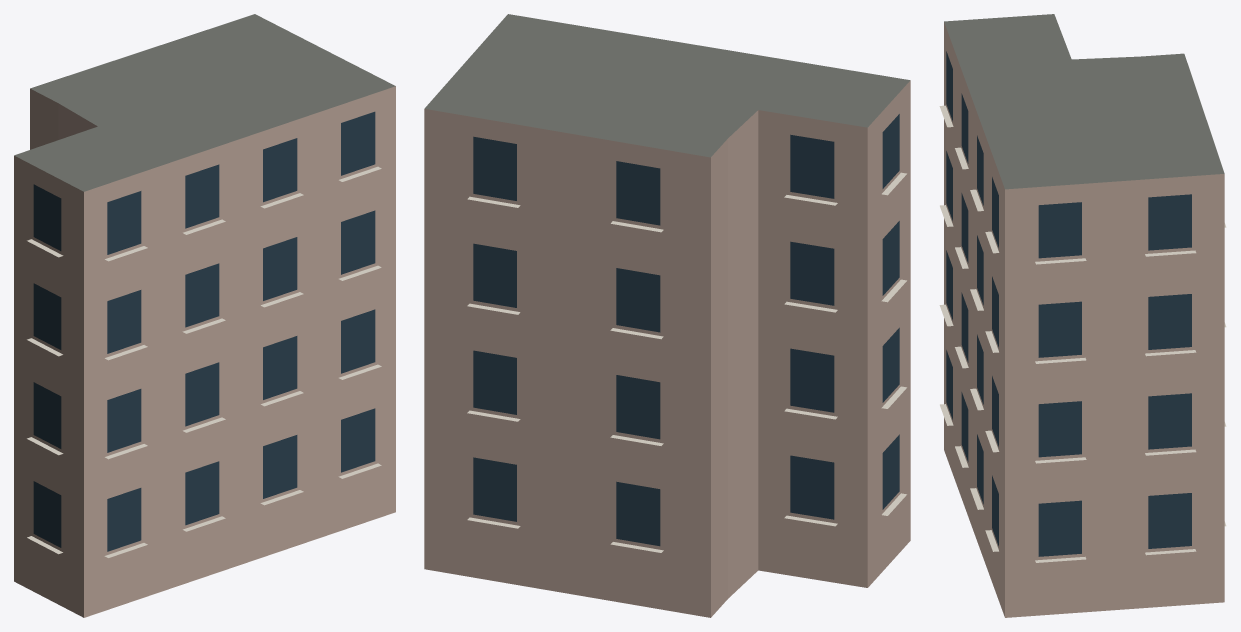
3 views of the same model, side by side, from view 1: azimuth 30°, elevation 25°; view 2: azimuth 150°, elevation 25°; view 3: azimuth 270°, elevation 25° (orthographic). The views are drawn at different scales.
Parts seen in each view (by area): view 1: Footprint 0, Inferred window bays, Window sills; view 2: Footprint 0, Inferred window bays, Window sills; view 3: Footprint 0, Inferred window bays, Window sills.
Part boxes in pixels (x1=…): Footprint 0: x1=14, y1=14, x2=395, y2=617; Inferred window bays: x1=33, y1=111, x2=375, y2=551; Window sills: x1=27, y1=166, x2=381, y2=557; Footprint 0: x1=424, y1=14, x2=910, y2=617; Inferred window bays: x1=473, y1=114, x2=899, y2=546; Window sills: x1=467, y1=172, x2=906, y2=552; Footprint 0: x1=944, y1=14, x2=1224, y2=617; Inferred window bays: x1=946, y1=51, x2=1191, y2=556; Window sills: x1=939, y1=105, x2=1226, y2=562.
Size of the model in its own units: 11.86 by 13.3 by 8.07.
